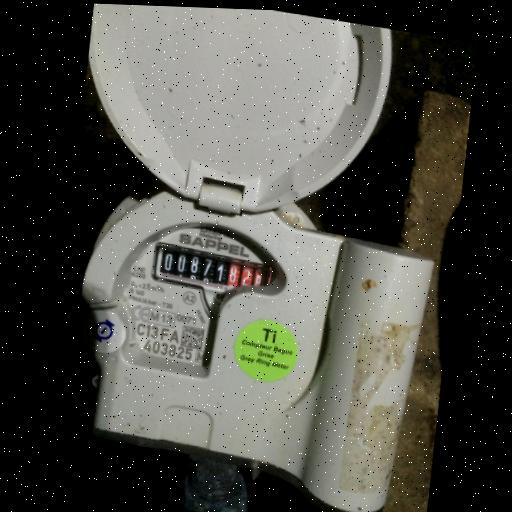0: (160, 248, 179, 276), (174, 250, 192, 278)
1: (214, 259, 231, 286)
2: (239, 264, 256, 289)
7: (200, 257, 218, 284)
8: (187, 253, 205, 281), (226, 262, 243, 289), (252, 267, 267, 288)
border_water_meter_number: (149, 241, 275, 304)
